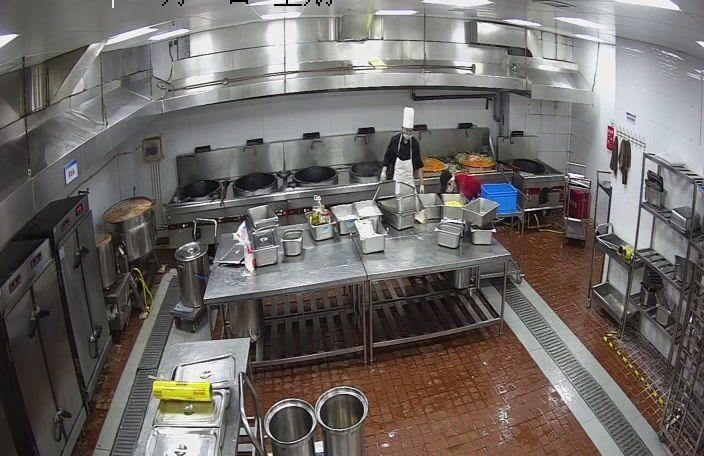mask: (401, 124, 416, 138)
